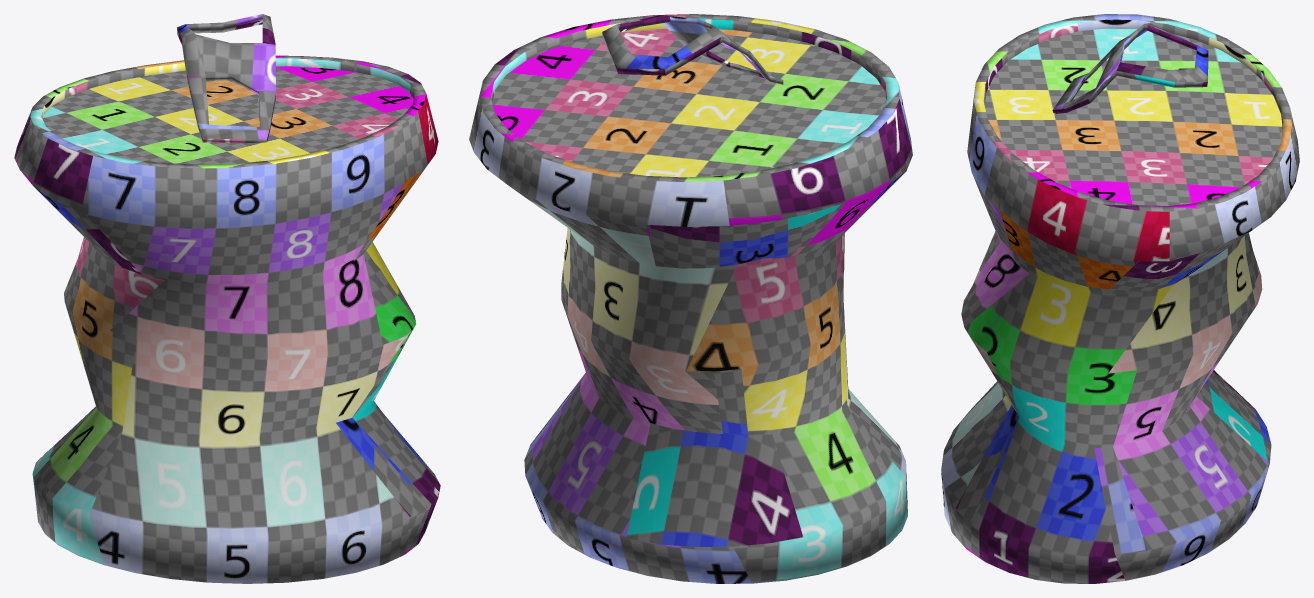
File: can1.fbx
3 renders of one model, left to right at view 1: azimuth 30°, elevation 25°; view 2: azimuth 150°, elevation 25°; view 3: azimuth 270°, elevation 25°, orthographic. The views are drawn at different scales.
Visible parts, largest first — view 1: Can 1.002; view 2: Can 1.002; view 3: Can 1.002.
Boxes of the visible parts, box(x1,y1,x2,y2) form: Can 1.002: box(14, 14, 440, 583); Can 1.002: box(469, 14, 912, 583); Can 1.002: box(941, 14, 1299, 583).
Bounding box in the file's own units: 148 × 179 × 123.
